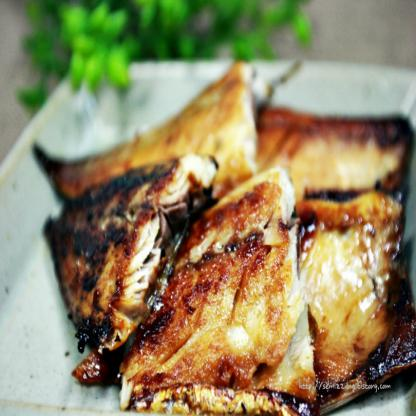Peixe: (43, 71, 416, 416)
